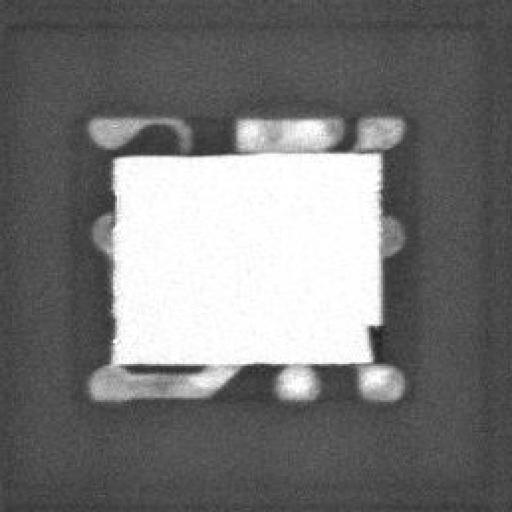DIE_BROKEN: (363, 319, 381, 360)
